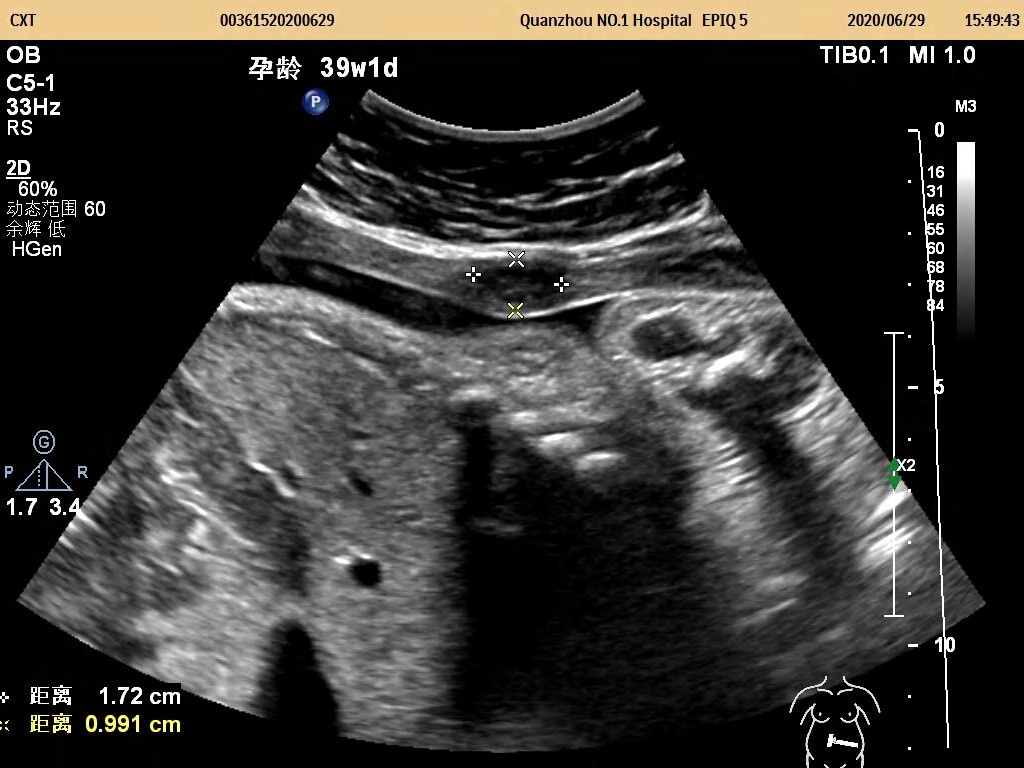肌瘤: (473, 261, 563, 310)
